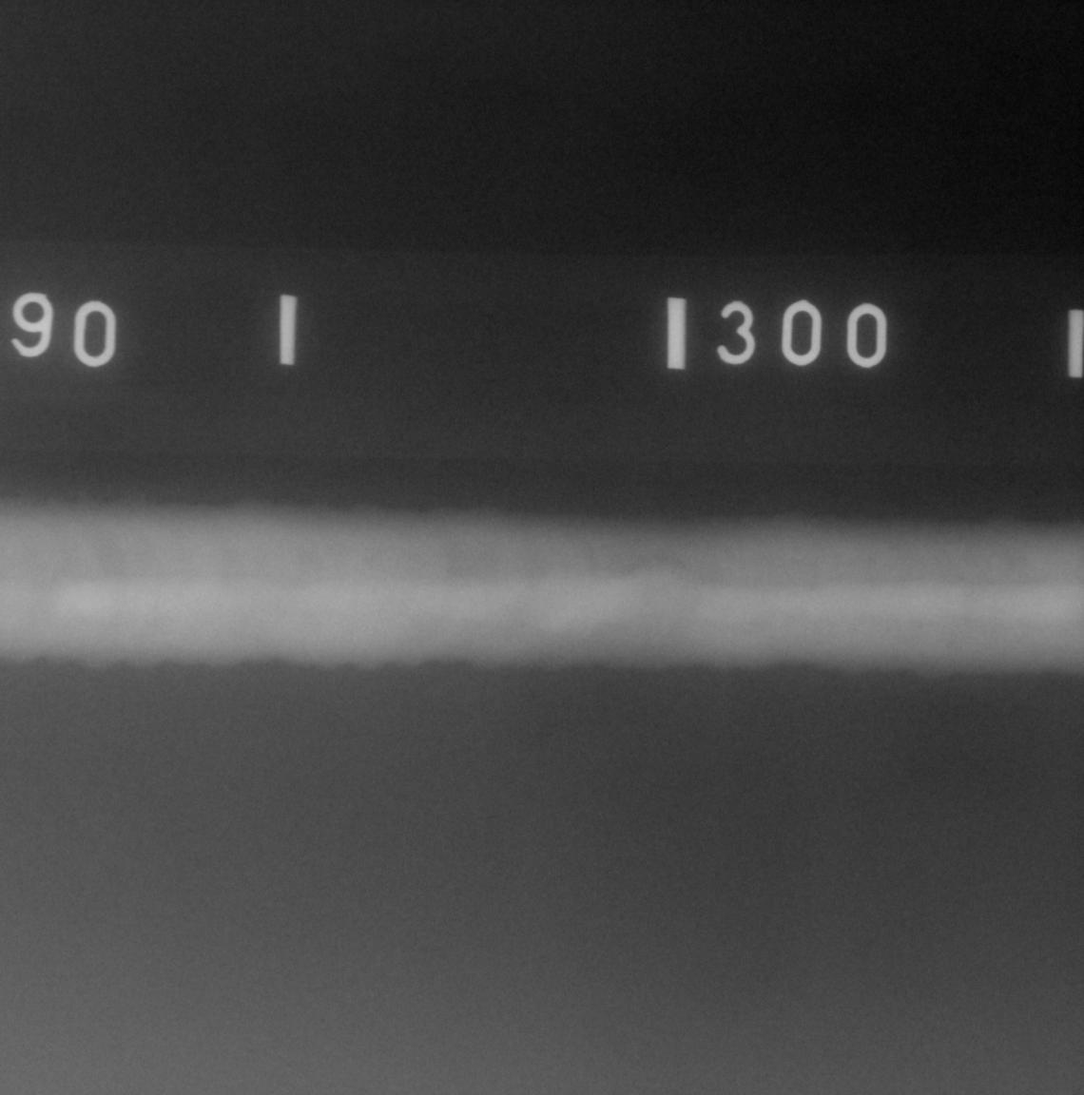Pore/Porosity: (671, 571, 674, 575)
